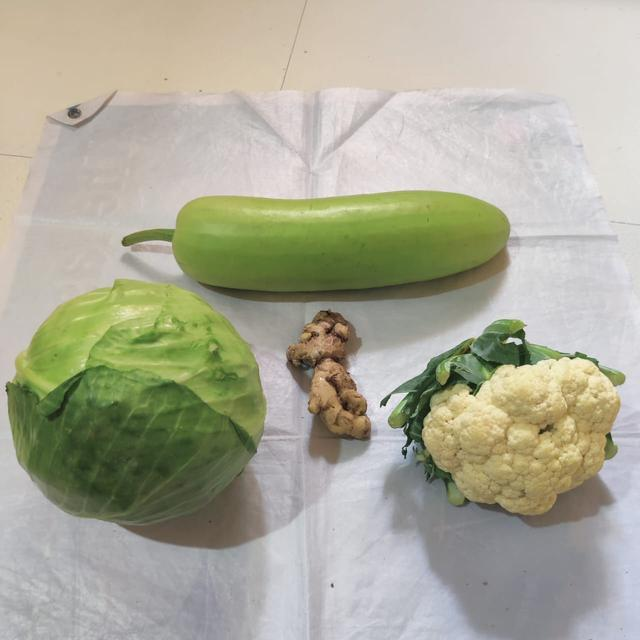Organik: (9, 288, 266, 526), (393, 320, 620, 517), (124, 191, 513, 291), (287, 309, 371, 438)
